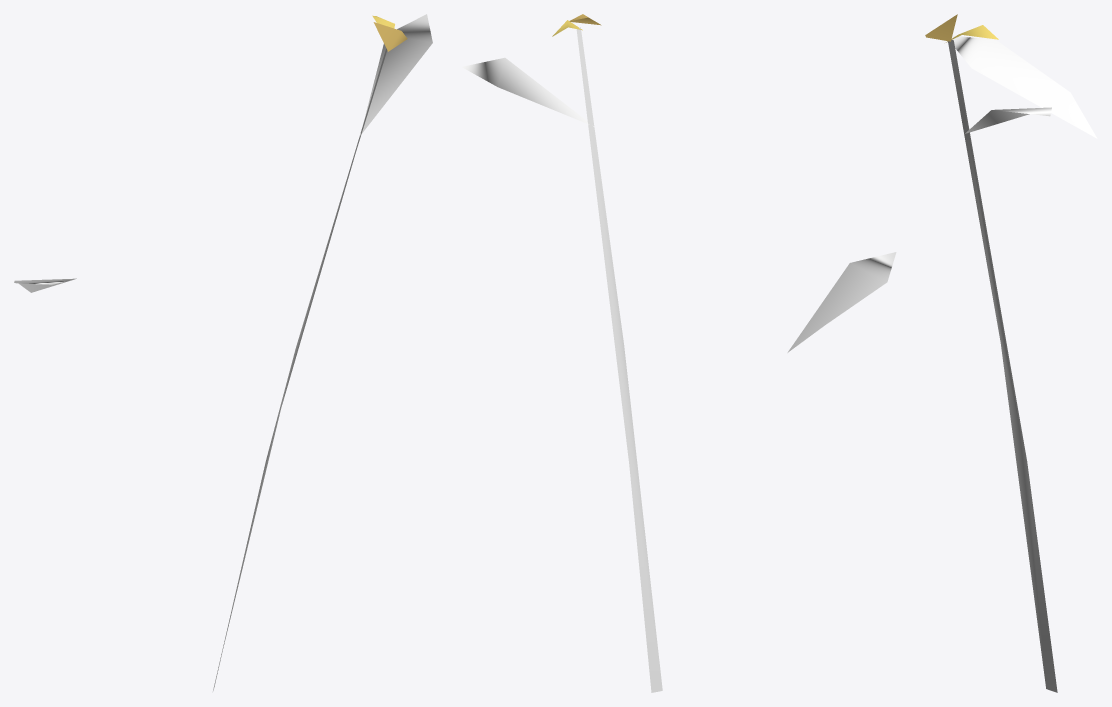
File: FieldWeedSprig_LOD3.glb
3 renders of one model, left to right at view 1: azimuth 30°, elevation 25°; view 2: azimuth 150°, elevation 25°; view 3: azimuth 270°, elevation 25°, orthographic. The views are drawn at different scales.
Visible parts, largest first — view 1: FieldWeedSprig_LOD3; view 2: FieldWeedSprig_LOD3; view 3: FieldWeedSprig_LOD3.
Part boxes in pixels (x1,y1,x2,y2): FieldWeedSprig_LOD3: [14, 14, 432, 690]; FieldWeedSprig_LOD3: [462, 14, 896, 692]; FieldWeedSprig_LOD3: [925, 14, 1097, 692].
Size of the model in its own units: 0.5404 by 0.7925 by 0.1675.
